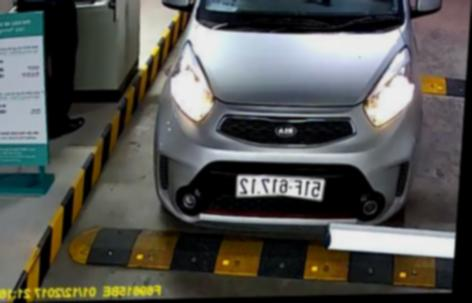License_Plate: (232, 169, 331, 203)
